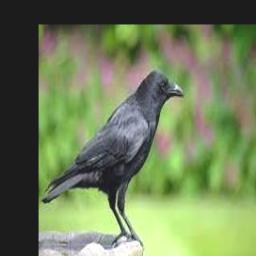Crow: (40, 68, 184, 246)
